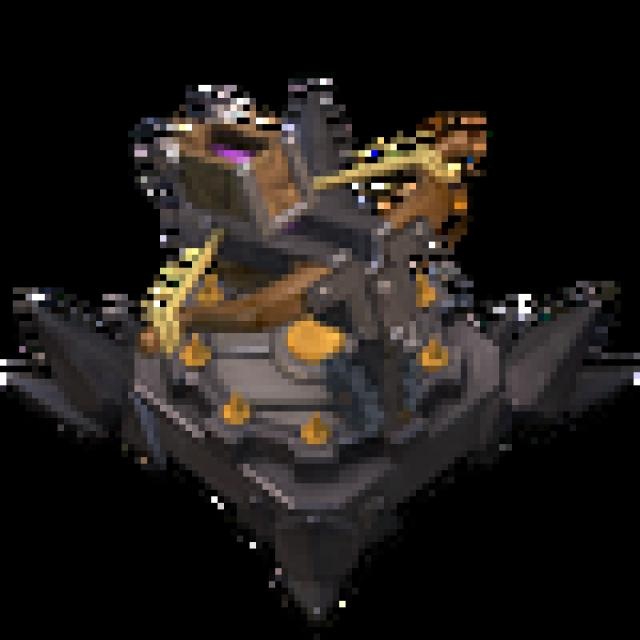x-bow: (4, 0, 640, 640)
